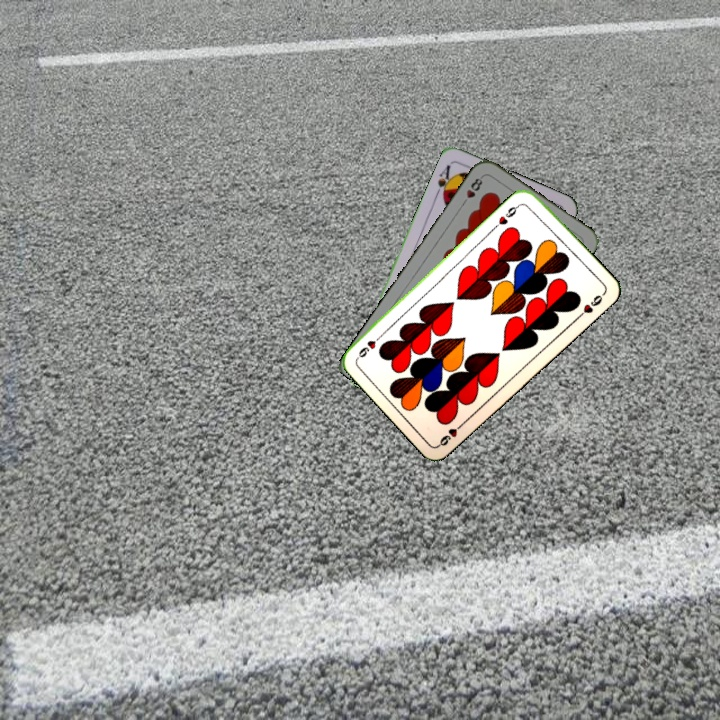H8: (458, 172, 486, 208)
H9: (434, 417, 468, 449), (491, 199, 524, 230)
SA: (432, 161, 457, 201)
